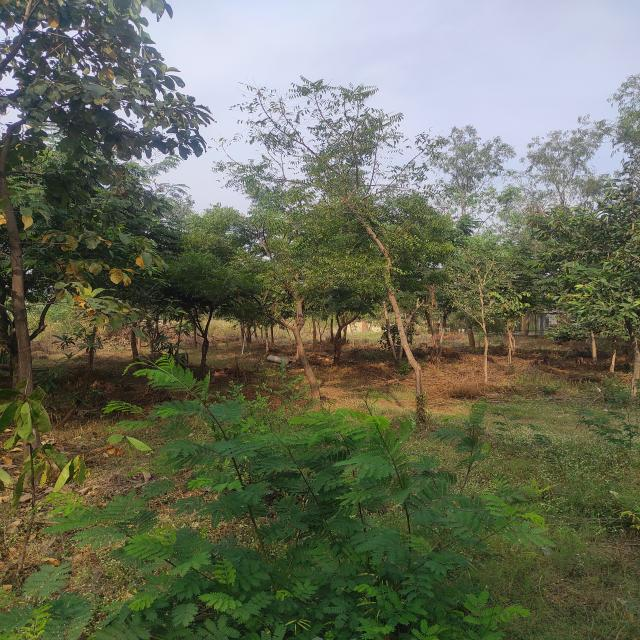Neem Tree: (195, 128, 445, 383)
